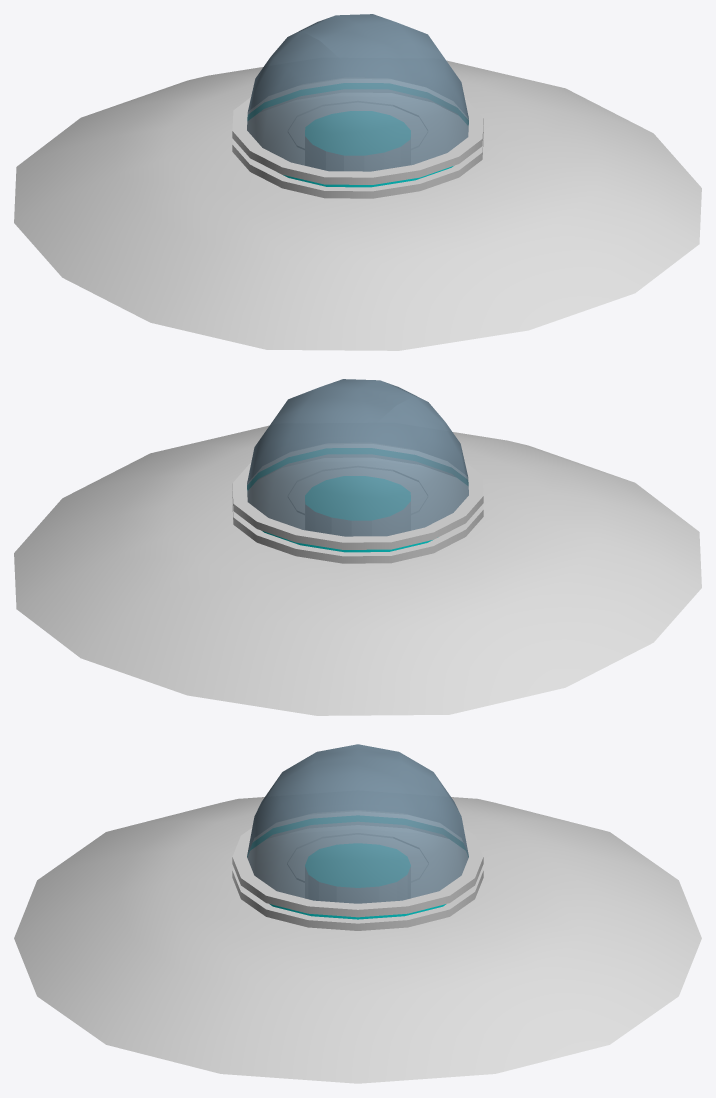
File: SM_spaceship.fbx
3 renders of one model, top to bottom at view 1: azimuth 30°, elevation 25°; view 2: azimuth 150°, elevation 25°; view 3: azimuth 270°, elevation 25°, orthographic.
Visible parts, largest first — view 1: SM_spaceship; view 2: SM_spaceship; view 3: SM_spaceship.
Part boxes in pixels (x1,y1,x2,y2): SM_spaceship: (14,14,701,350); SM_spaceship: (14,379,701,715); SM_spaceship: (14,744,701,1083).
Bounding box in the file's own units: 1500 × 606 × 1500.
